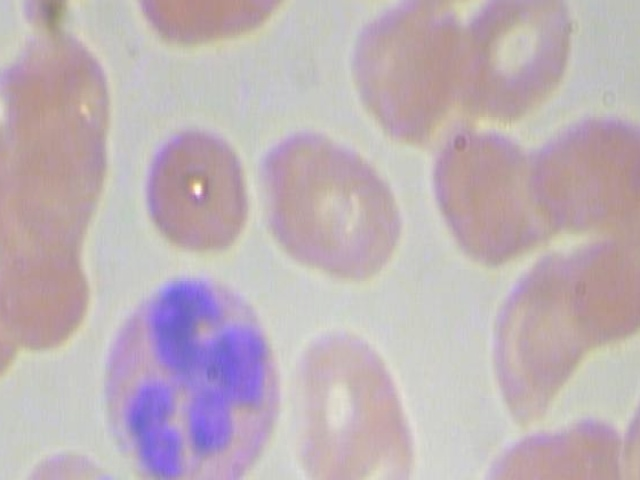RBC: (283, 312, 399, 480), (450, 0, 582, 128), (292, 136, 403, 287), (248, 120, 359, 268), (344, 0, 454, 144), (524, 110, 640, 242), (141, 124, 254, 258), (554, 228, 640, 344), (509, 413, 630, 480), (125, 0, 250, 47), (13, 439, 127, 480)
WBC: (104, 260, 284, 480)
